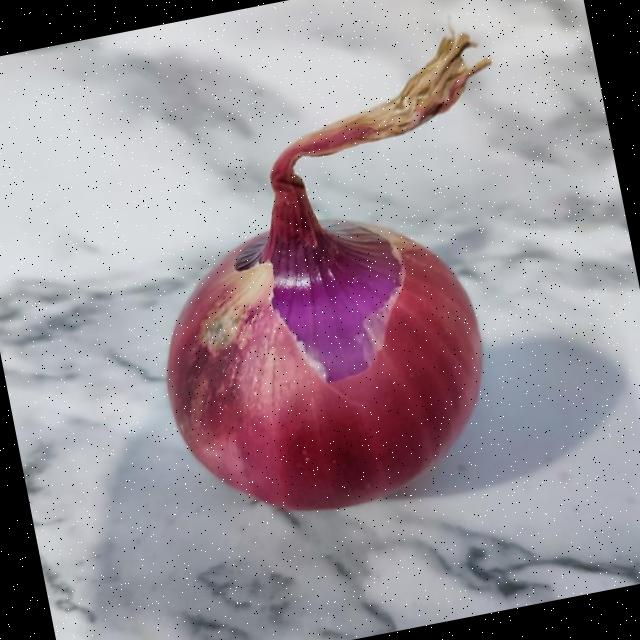Onion: (168, 33, 491, 510)
